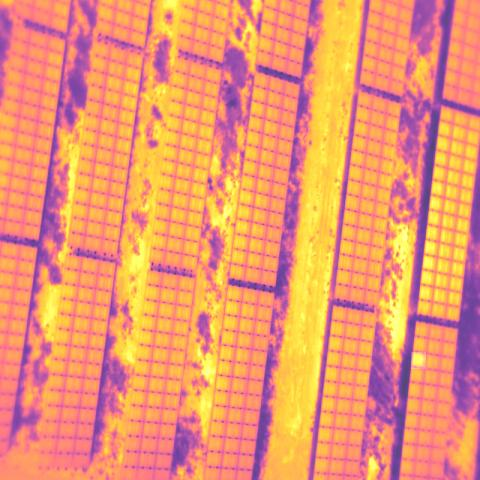fault: (411, 352, 426, 369)
